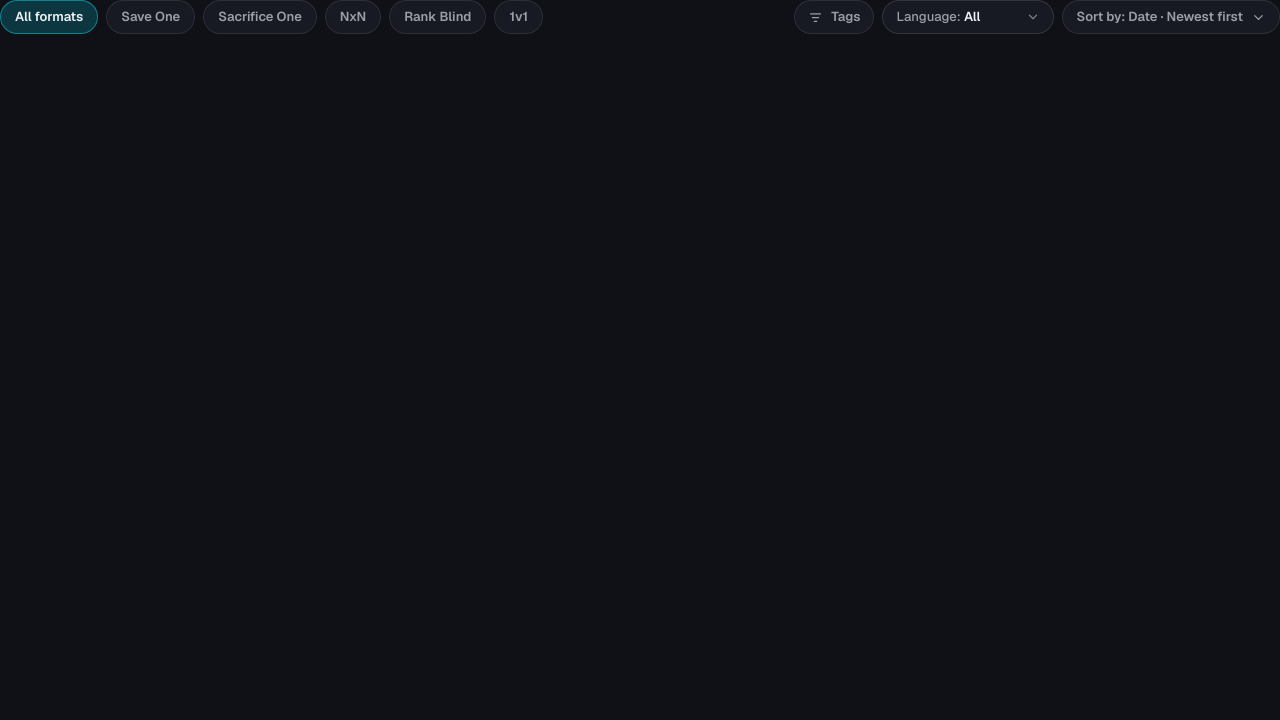
Test: BrowseFilterBar › shows the popularity window row only under the Popular sort
Click the button "Sort by: Date · Newest first" at (1171, 17), box [1062,0,1279,34]
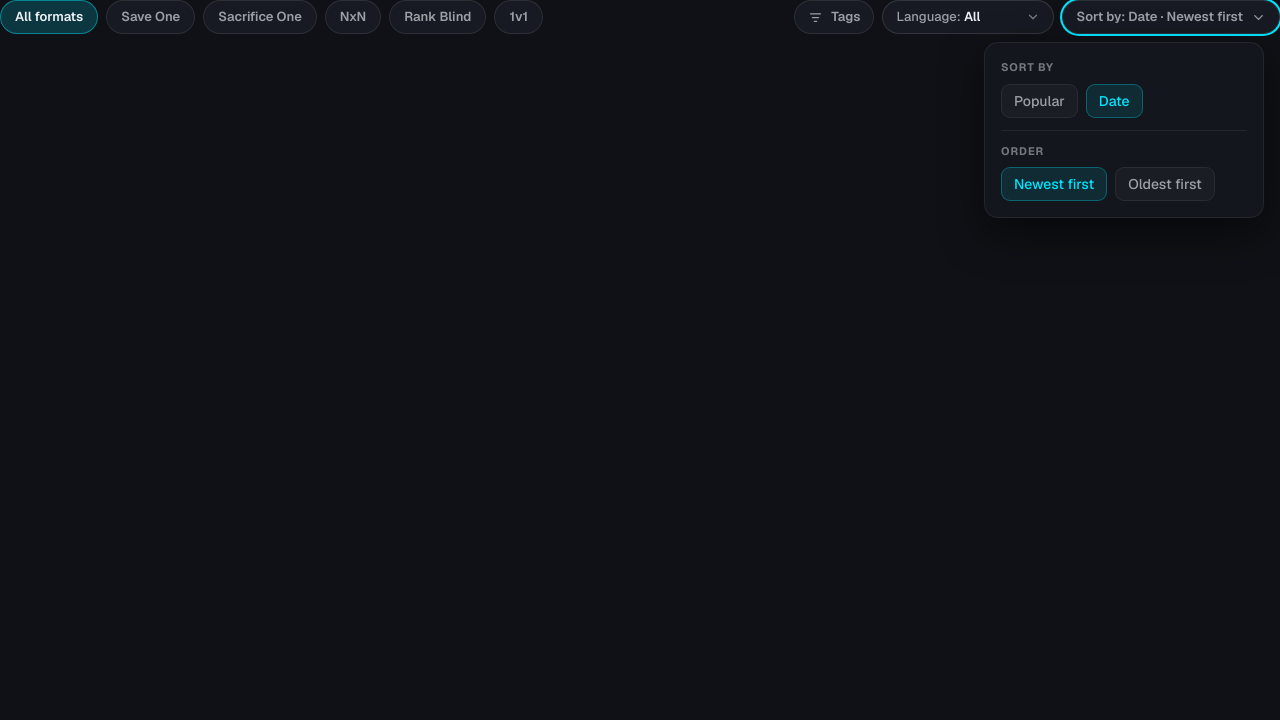
expect the button "Oldest first" is shown: met, box [1115,167,1215,201]
